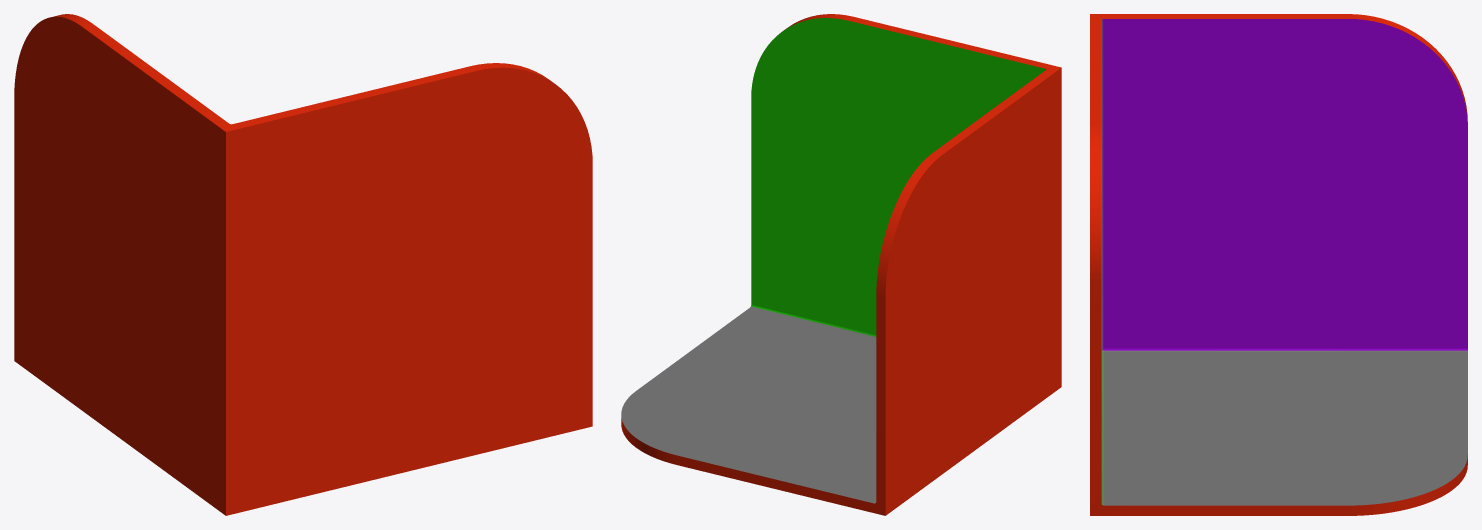
The model's file is Room.glb.
3 renders of one model, left to right at view 1: azimuth 30°, elevation 25°; view 2: azimuth 150°, elevation 25°; view 3: azimuth 270°, elevation 25°, orthographic. The views are drawn at different scales.
Visible parts, largest first — view 1: Room_beveled; view 2: Room_beveled; view 3: Room_beveled.
Part boxes in pixels (<box>): Room_beveled: <box>14,14,592,515</box>; Room_beveled: <box>621,14,1061,515</box>; Room_beveled: <box>1090,14,1467,515</box>.
Bounding box in the file's own units: 3.3 × 3.3 × 3.3.
